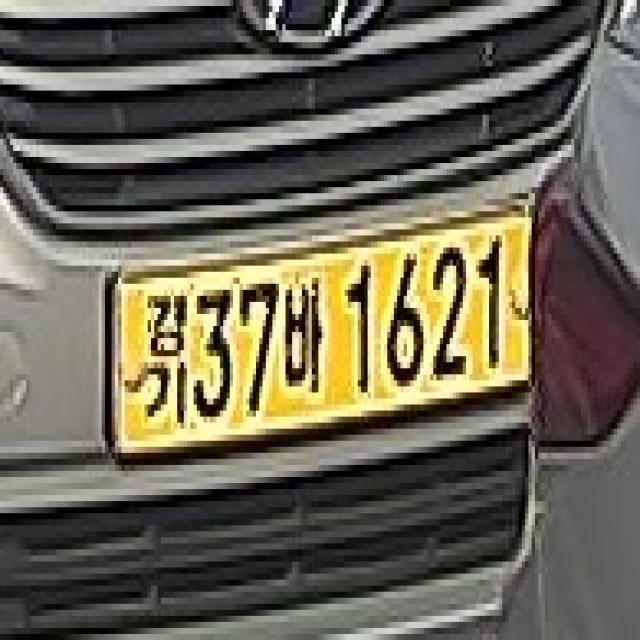plat: (107, 206, 533, 459)
